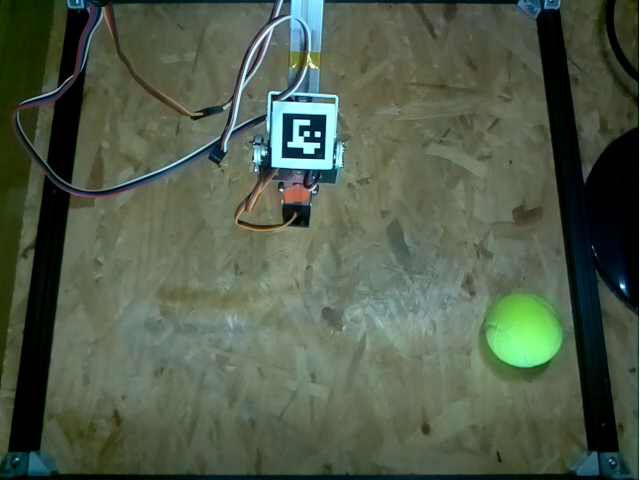tennis_ball: (485, 291, 564, 368)
